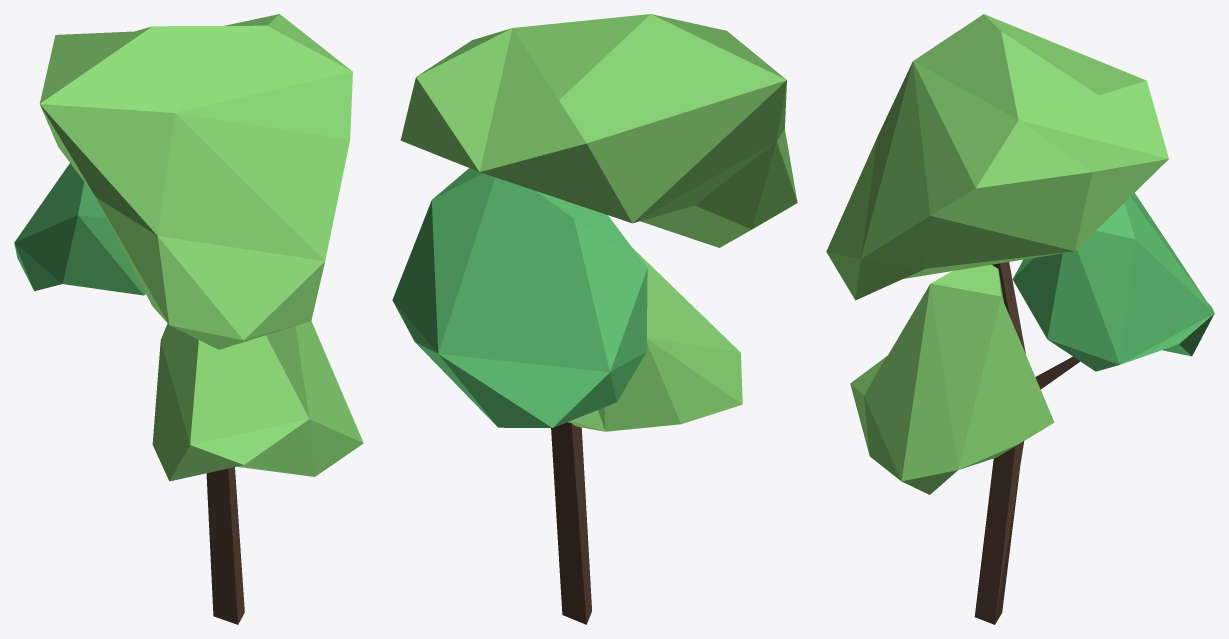
Rendered from Tree_Type1_1.fbx.
The picture shows the model from 3 angles, left to right: view 1: azimuth 30°, elevation 25°; view 2: azimuth 150°, elevation 25°; view 3: azimuth 270°, elevation 25°; orthographic projection. The views are drawn at different scales.
Parts seen in each view (by area): view 1: Tree_Type1_1; view 2: Tree_Type1_1; view 3: Tree_Type1_1.
Boxes of the visible parts, x1,y1,x2,y2 form: Tree_Type1_1: [14, 14, 363, 624]; Tree_Type1_1: [392, 14, 797, 624]; Tree_Type1_1: [826, 14, 1214, 624].
Size of the model in its own units: 152 by 271 by 172.
